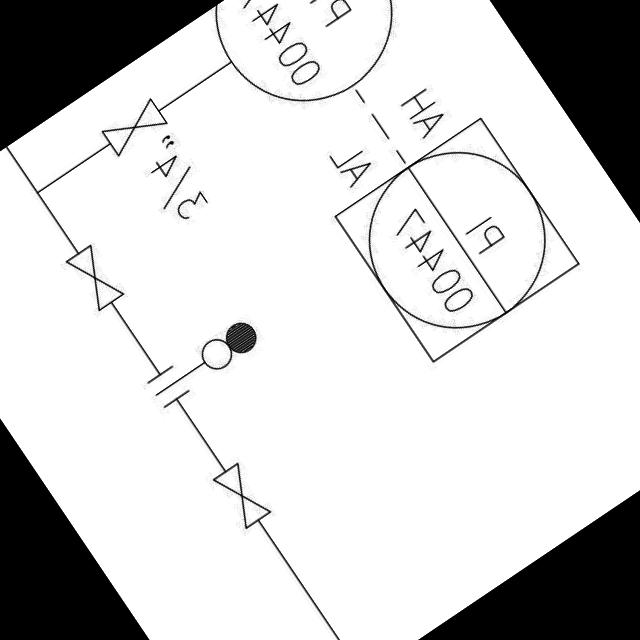GV: (92, 88, 175, 162), (206, 453, 278, 536), (60, 237, 132, 317)
